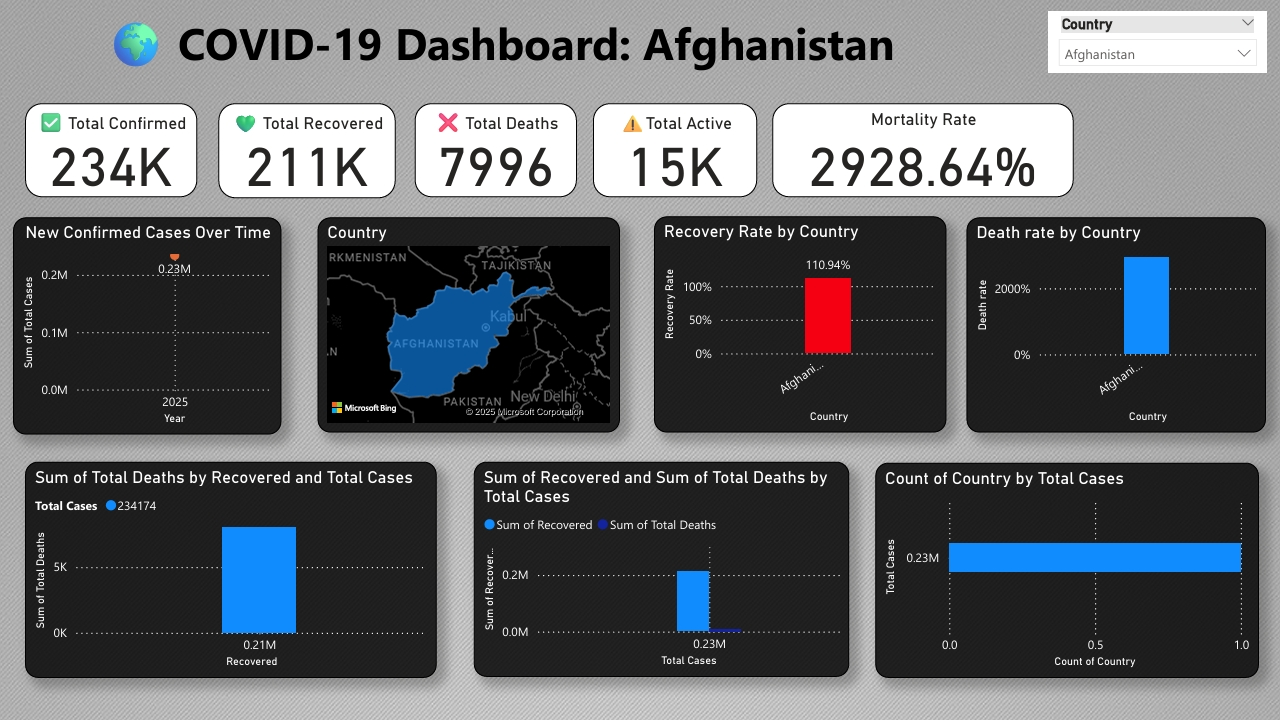

What the dashboard file says about the page in this screenshot:
{"tool":"powerbi","page":{"name":"Page 1","canvas":[1280,720],"ordinal":0},"visuals":[{"type":"card","title":"✅ Total Confirmed","fields":{"Values":["Sum(public covid_summary.Total Cases)"]},"box":[25.7,102.7,172.4,94.2],"z":1000},{"type":"card","title":"💚 Total Recovered","fields":{"Values":["Sum(public covid_summary.Recovered)"]},"box":[218.9,102.7,177.3,95.4],"z":2000},{"type":"card","title":"⚠️Total Active","fields":{"Values":["Sum(public covid_summary.Active)"]},"box":[593.1,102.7,163.9,94.2],"z":3000},{"type":"card","title":"❌ Total Deaths","fields":{"Values":["Sum(public covid_summary.Total Deaths)"]},"box":[414.5,102.7,162.6,94.2],"z":4000},{"type":"clusteredBarChart","fields":{"Category":["public covid_summary.Total Cases"],"Y":["CountNonNull(public covid_summary.Country)"]},"box":[875,461.9,383.4,214.9],"z":5000},{"type":"slicer","fields":{"Values":["public covid_summary.Country"]},"box":[1048,11,217.7,61.1],"z":6000},{"type":"columnChart","fields":{"Series":["public covid_summary.Total Cases"],"Category":["public covid_summary.Recovered"],"Y":["Sum(public covid_summary.Total Deaths)"]},"box":[25.7,460.6,411.7,216.2],"z":7000},{"type":"filledMap","fields":{"Category":["public covid_summary.Country"]},"box":[317.8,217.5,302.4,214.9],"z":8000},{"type":"clusteredColumnChart","fields":{"Category":["public covid_summary.Total Cases"],"Y":["Sum(public covid_summary.Recovered)","Sum(public covid_summary.Total Deaths)"]},"box":[473.5,460.6,375.7,214.9],"z":8001},{"type":"clusteredColumnChart","title":"Recovery Rate by Country","fields":{"Y":["public covid_summary.Recovery Rate"],"Category":["public covid_summary.Country"]},"box":[653.6,216.2,292.1,216.2],"z":8002},{"type":"clusteredColumnChart","title":"Death rate by Country","fields":{"Y":["public covid_summary.Death rate"],"Category":["public covid_summary.Country"]},"box":[966.3,217.5,298.5,214.9],"z":8003},{"type":"card","fields":{"Values":["public covid_summary.DynamicTitle"]},"box":[0,3.9,1001,75.9],"z":8004},{"type":"lineChart","title":"New Confirmed Cases Over Time","fields":{"Category":["public covid_summary.LastUpdated.Variation.Date Hierarchy.Year"],"Y":["Sum(public covid_summary.Total Cases)"],"Series":["public covid_summary.Country"]},"box":[14.2,217.5,267.6,216.2],"z":8005},{"type":"card","title":"Mortality Rate","fields":{"Values":["public covid_summary.Mortality Rate"]},"box":[772,102.9,301.1,93.9],"z":8006}]}

Visuals, with their boxes in screenshot pixels (x1, y1, x2, y2), scaled from the page's 1280x720 canvas onto the 1280x720 screenshot:
"✅ Total Confirmed" card: crop(26, 103, 198, 197)
"💚 Total Recovered" card: crop(219, 103, 396, 198)
"⚠️Total Active" card: crop(593, 103, 757, 197)
"❌ Total Deaths" card: crop(414, 103, 577, 197)
clusteredBarChart - public covid_summary.Total Cases x CountNonNull(public covid_summary.Country): crop(875, 462, 1258, 677)
slicer - public covid_summary.Country: crop(1048, 11, 1266, 72)
columnChart - public covid_summary.Total Cases x public covid_summary.Recovered: crop(26, 461, 437, 677)
filledMap - public covid_summary.Country: crop(318, 218, 620, 432)
clusteredColumnChart - public covid_summary.Total Cases x Sum(public covid_summary.Recovered): crop(474, 461, 849, 676)
"Recovery Rate by Country" clusteredColumnChart: crop(654, 216, 946, 432)
"Death rate by Country" clusteredColumnChart: crop(966, 218, 1265, 432)
card - public covid_summary.DynamicTitle: crop(0, 4, 1001, 80)
"New Confirmed Cases Over Time" lineChart: crop(14, 218, 282, 434)
"Mortality Rate" card: crop(772, 103, 1073, 197)
